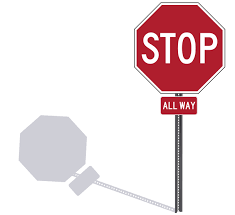stop sign: (136, 2, 226, 92)
